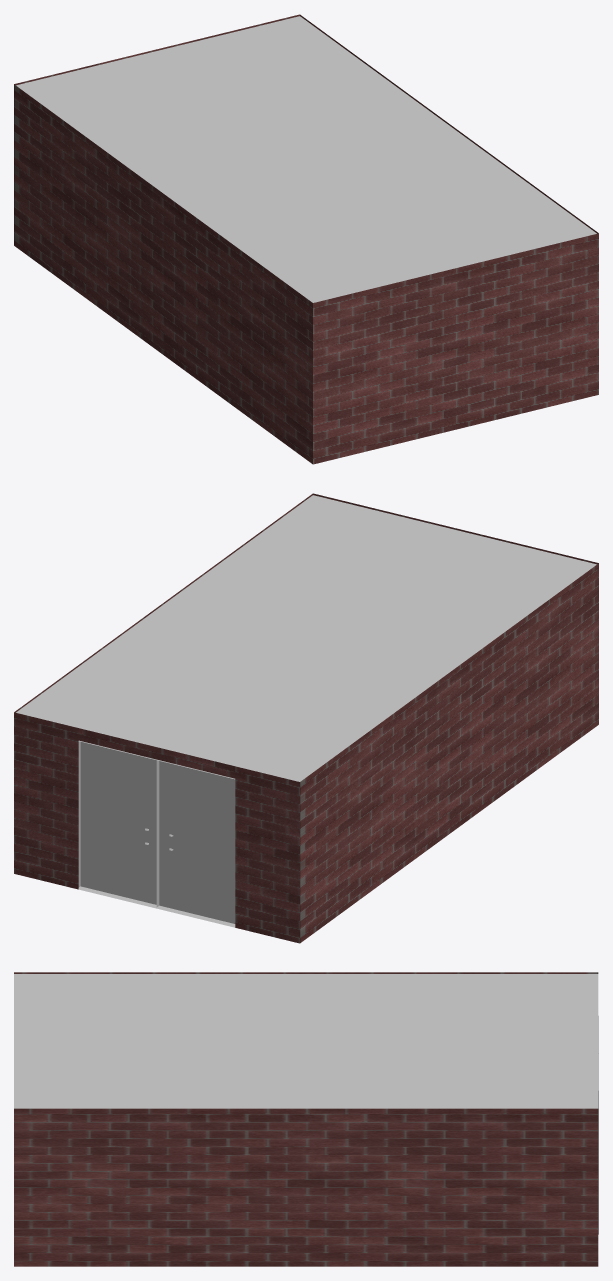
The model's file is garage.fbx.
3 views of the same model, one above another, from view 1: azimuth 30°, elevation 25°; view 2: azimuth 150°, elevation 25°; view 3: azimuth 270°, elevation 25° (orthographic). The views are drawn at different scales.
Visible parts, largest first — view 1: Cube.135, Cube.147; view 2: Cube.147, Cube.135, Cube.146, Cube.148; view 3: Cube.135, Cube.147.
Boxes of the visible parts, bbox=[...] form: Cube.135: bbox=[14, 14, 598, 464]; Cube.147: bbox=[16, 16, 596, 302]; Cube.147: bbox=[16, 495, 596, 781]; Cube.135: bbox=[14, 493, 598, 943]; Cube.146: bbox=[156, 760, 235, 926]; Cube.148: bbox=[78, 740, 156, 907]; Cube.135: bbox=[14, 972, 598, 1266]; Cube.147: bbox=[14, 974, 598, 1108].
Bounding box in the file's own units: 908 × 490 × 1646.
